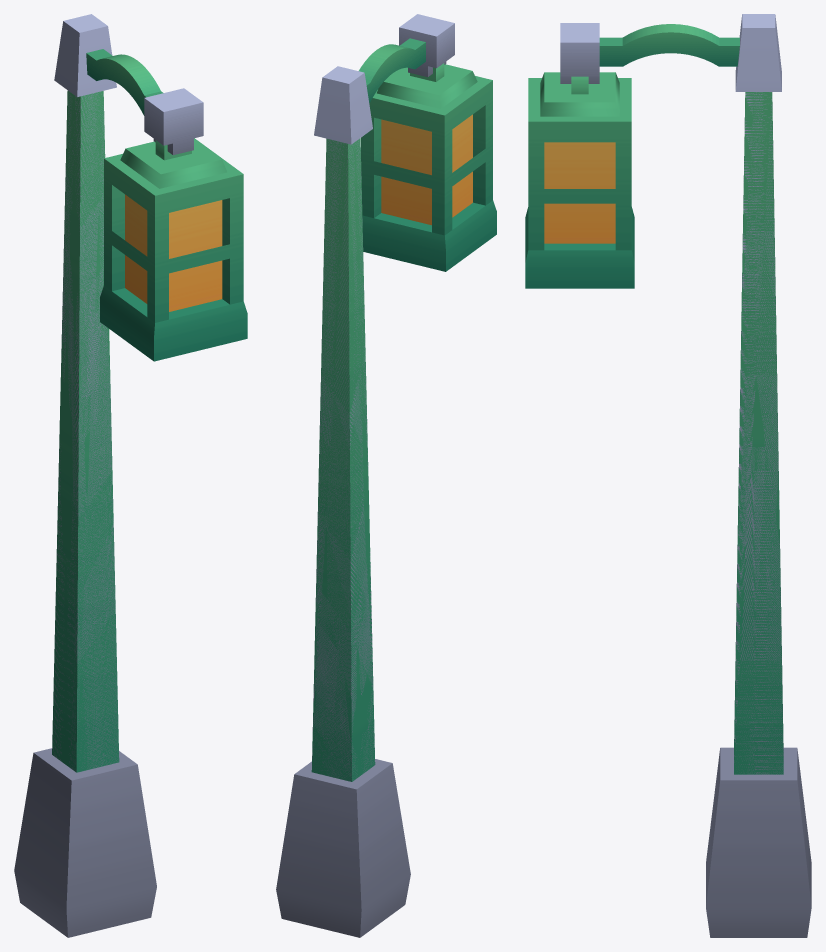
Rendered from lightpost-single.glb.
3 views of the same model, side by side, from view 1: azimuth 30°, elevation 25°; view 2: azimuth 150°, elevation 25°; view 3: azimuth 270°, elevation 25° (orthographic). The views are drawn at different scales.
Parts seen in each view (by area): view 1: Asset3DLoader.sceneRoot; view 2: Asset3DLoader.sceneRoot; view 3: Asset3DLoader.sceneRoot.
Boxes of the visible parts, box(x1,y1,x2,y2) form: Asset3DLoader.sceneRoot: box(14, 14, 247, 937); Asset3DLoader.sceneRoot: box(276, 14, 496, 937); Asset3DLoader.sceneRoot: box(525, 14, 811, 937).
Size of the model in its own units: 0.1459 by 1.32 by 0.3818.
Materials: 1 (1 with a texture image).
